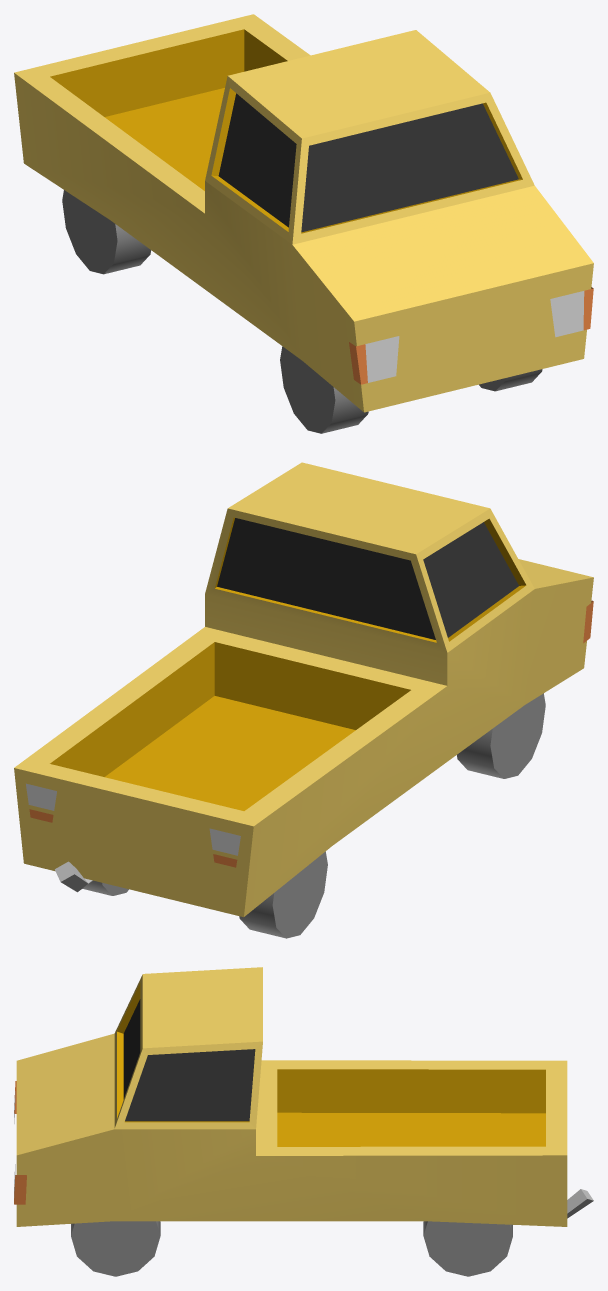
The model's file is pickup_05.fbx.
The picture shows the model from 3 angles, top to bottom: view 1: azimuth 30°, elevation 25°; view 2: azimuth 150°, elevation 25°; view 3: azimuth 270°, elevation 25°; orthographic projection. The views are drawn at different scales.
Visible parts, largest first — view 1: pickup_05; view 2: pickup_05; view 3: pickup_05.
Boxes of the visible parts, left/top/right/bottom form: pickup_05: left=14, top=14, right=593, bottom=433; pickup_05: left=14, top=462, right=593, bottom=938; pickup_05: left=14, top=967, right=593, bottom=1276.
Bounding box in the file's own units: 1.6 × 1.8 × 4.1.
